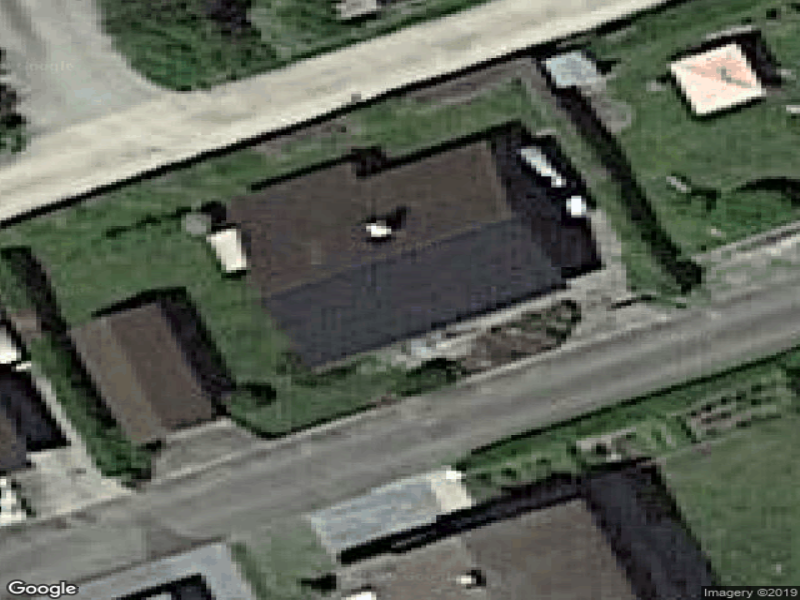pv: (264, 218, 567, 367)
